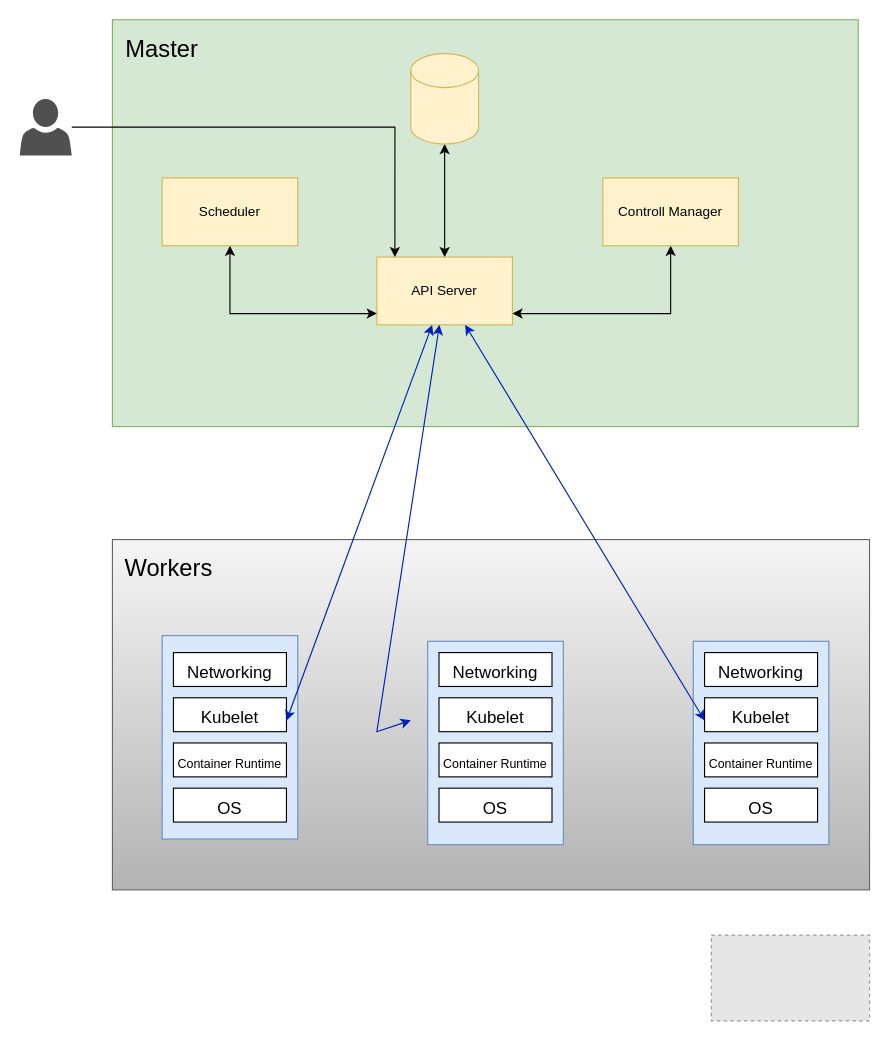
Image size: 889x1041. Some labels were removed from this diagram. Grey dashed boxes stand in for pictures. The centre of each missing label's shape, as x and y in pixels:
etcd: pixel 444 98
User: pixel 45 126
